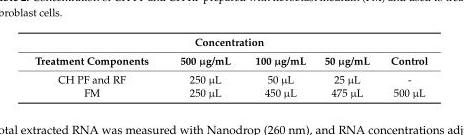table: (34, 35, 427, 98)
table column: (34, 35, 163, 98), (163, 35, 242, 98), (242, 35, 314, 98), (314, 35, 379, 98), (379, 35, 427, 98)
table column header: (34, 35, 427, 69)
table row: (34, 51, 427, 69), (34, 35, 427, 51), (34, 69, 427, 85), (34, 85, 427, 98)
table spanning cell: (34, 35, 427, 51)
